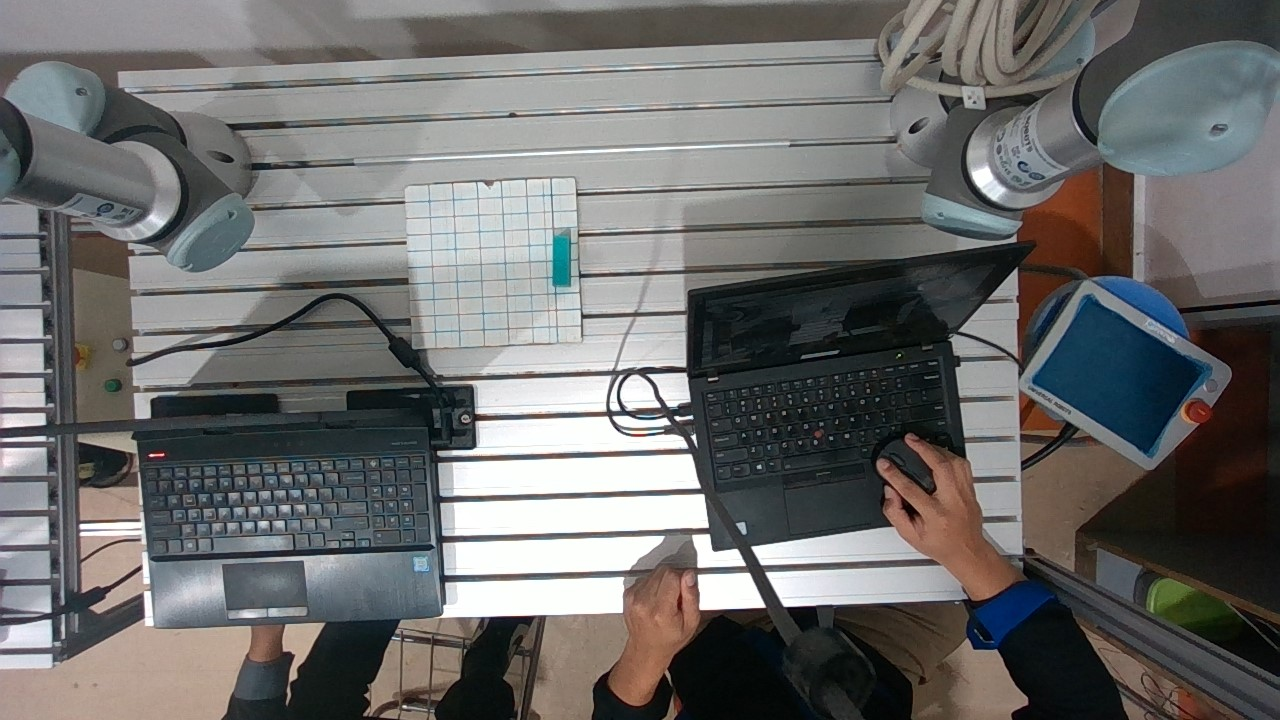box: (536, 218, 579, 298)
